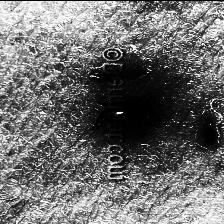Toxin: (125, 94, 163, 138), (192, 120, 224, 150), (125, 64, 149, 86), (88, 69, 110, 85)
